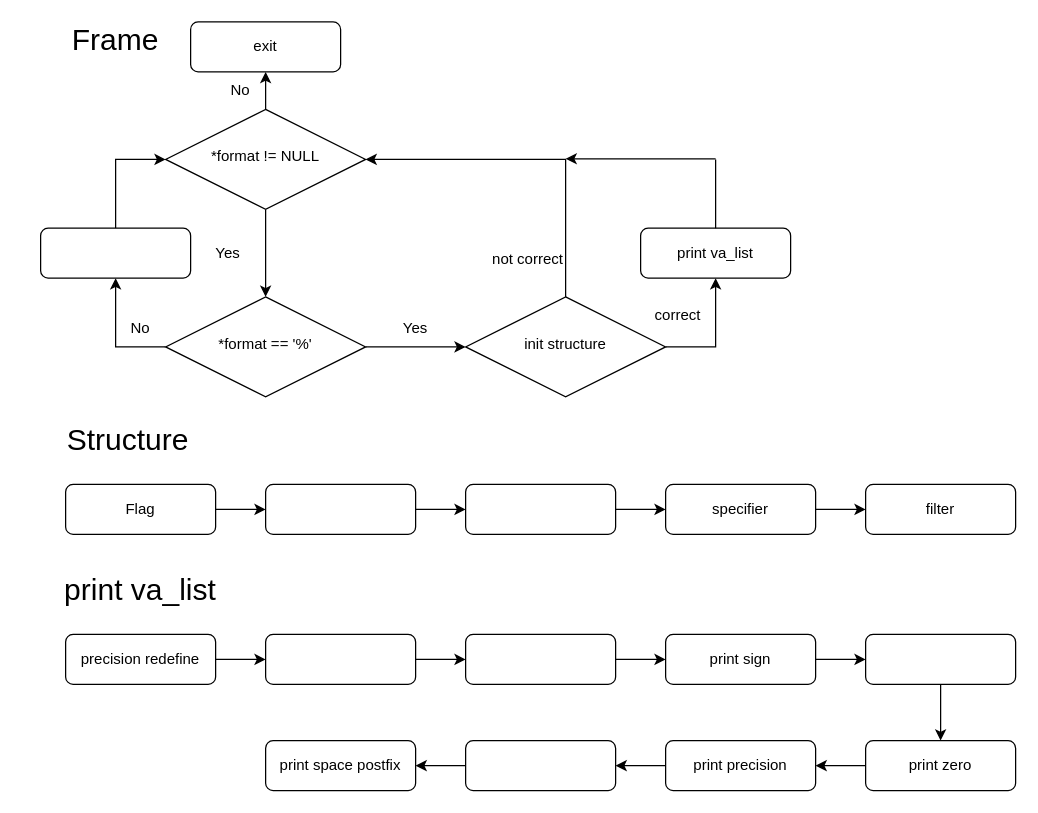
This 1038x813 diagram has some shape labels left out. The shapes that lost their labels are listed below. From the top down, each one's box as (x1, y1, x2, y2) in pixels, then its label:
(39, 227, 191, 278): print *format
(264, 483, 416, 534): width
(464, 483, 616, 534): precision
(264, 633, 416, 684): width redefine
(464, 633, 616, 684): print space prefix
(864, 633, 1016, 684): print notation
(464, 739, 616, 791): print specifier
